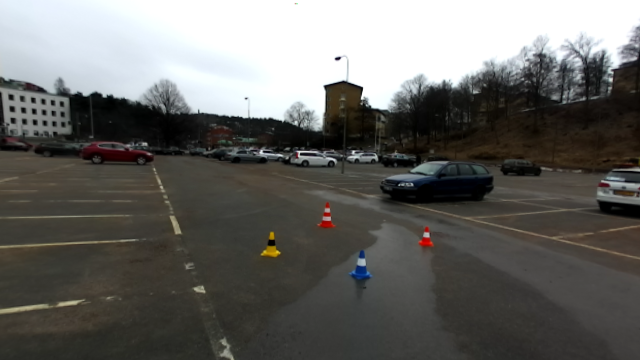blue: (348, 247, 373, 282)
orange: (418, 224, 434, 250)
orange2: (317, 201, 335, 229)
yellow: (259, 230, 281, 258)
